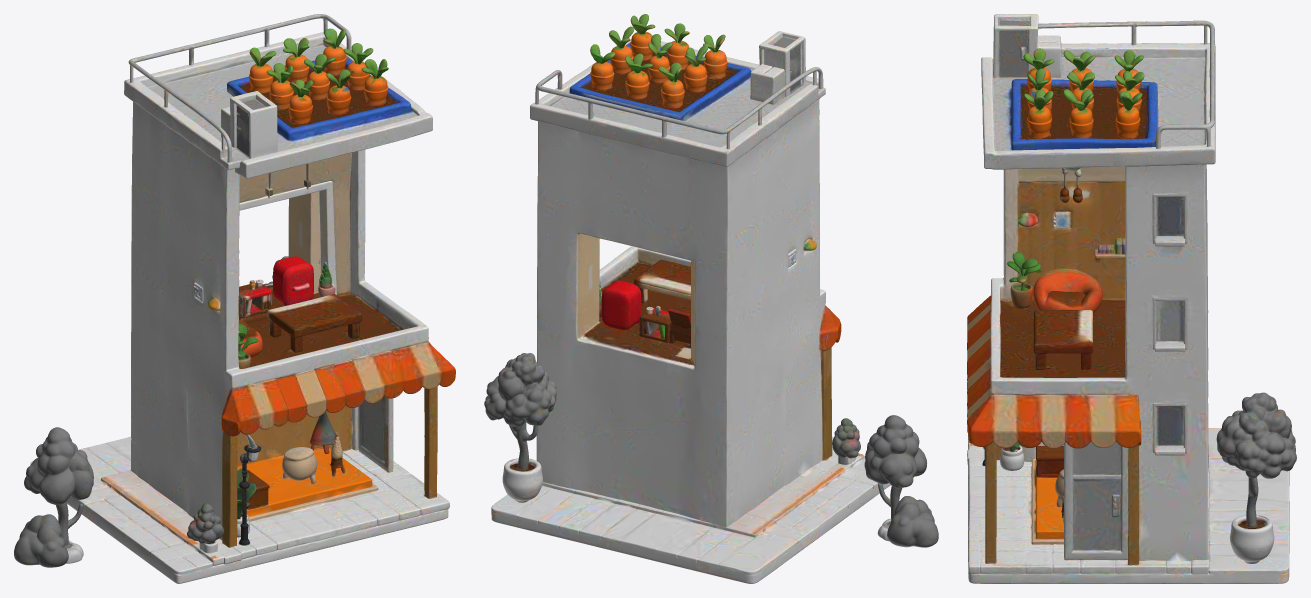
File: apart_draco.glb
3 renders of one model, left to right at view 1: azimuth 30°, elevation 25°; view 2: azimuth 150°, elevation 25°; view 3: azimuth 270°, elevation 25°, orthographic. The views are drawn at different scales.
Bounding box in the file's own units: 1.74 × 1.9 × 1.2.
Materials: 1 (1 with a texture image).
